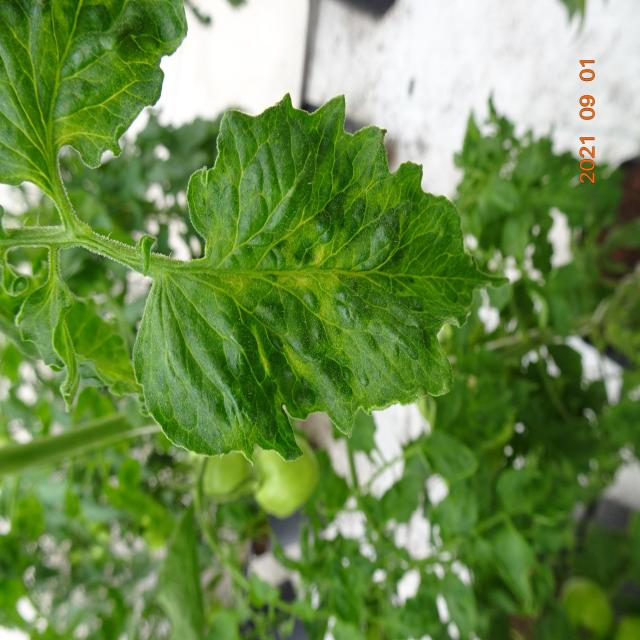T_L_R: (135, 98, 489, 459), (1, 1, 187, 188), (17, 248, 80, 411)
T_S_R: (1, 224, 151, 274)
